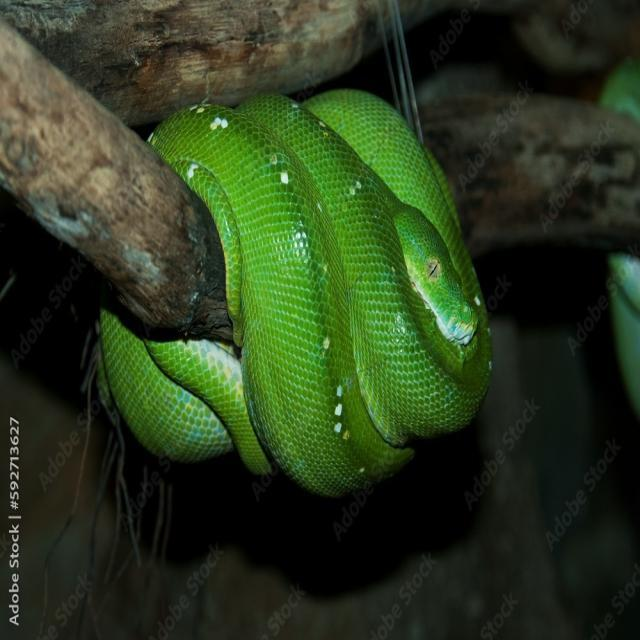Snake: (75, 65, 520, 519)
